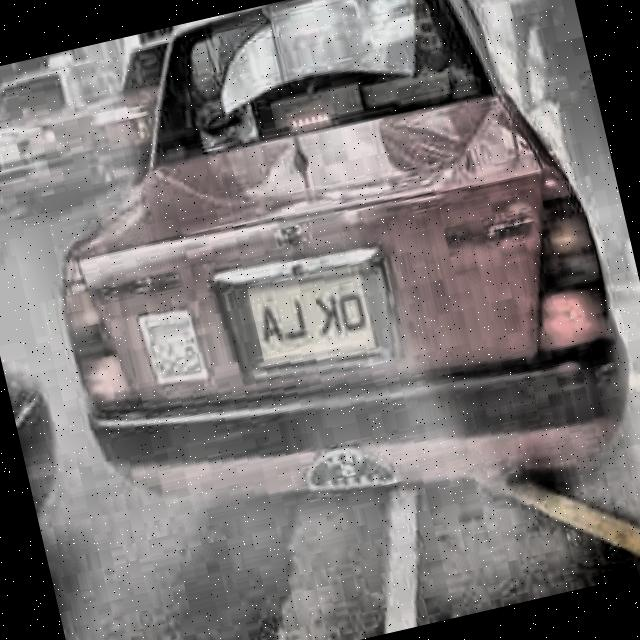license_plate: (241, 265, 390, 382)
